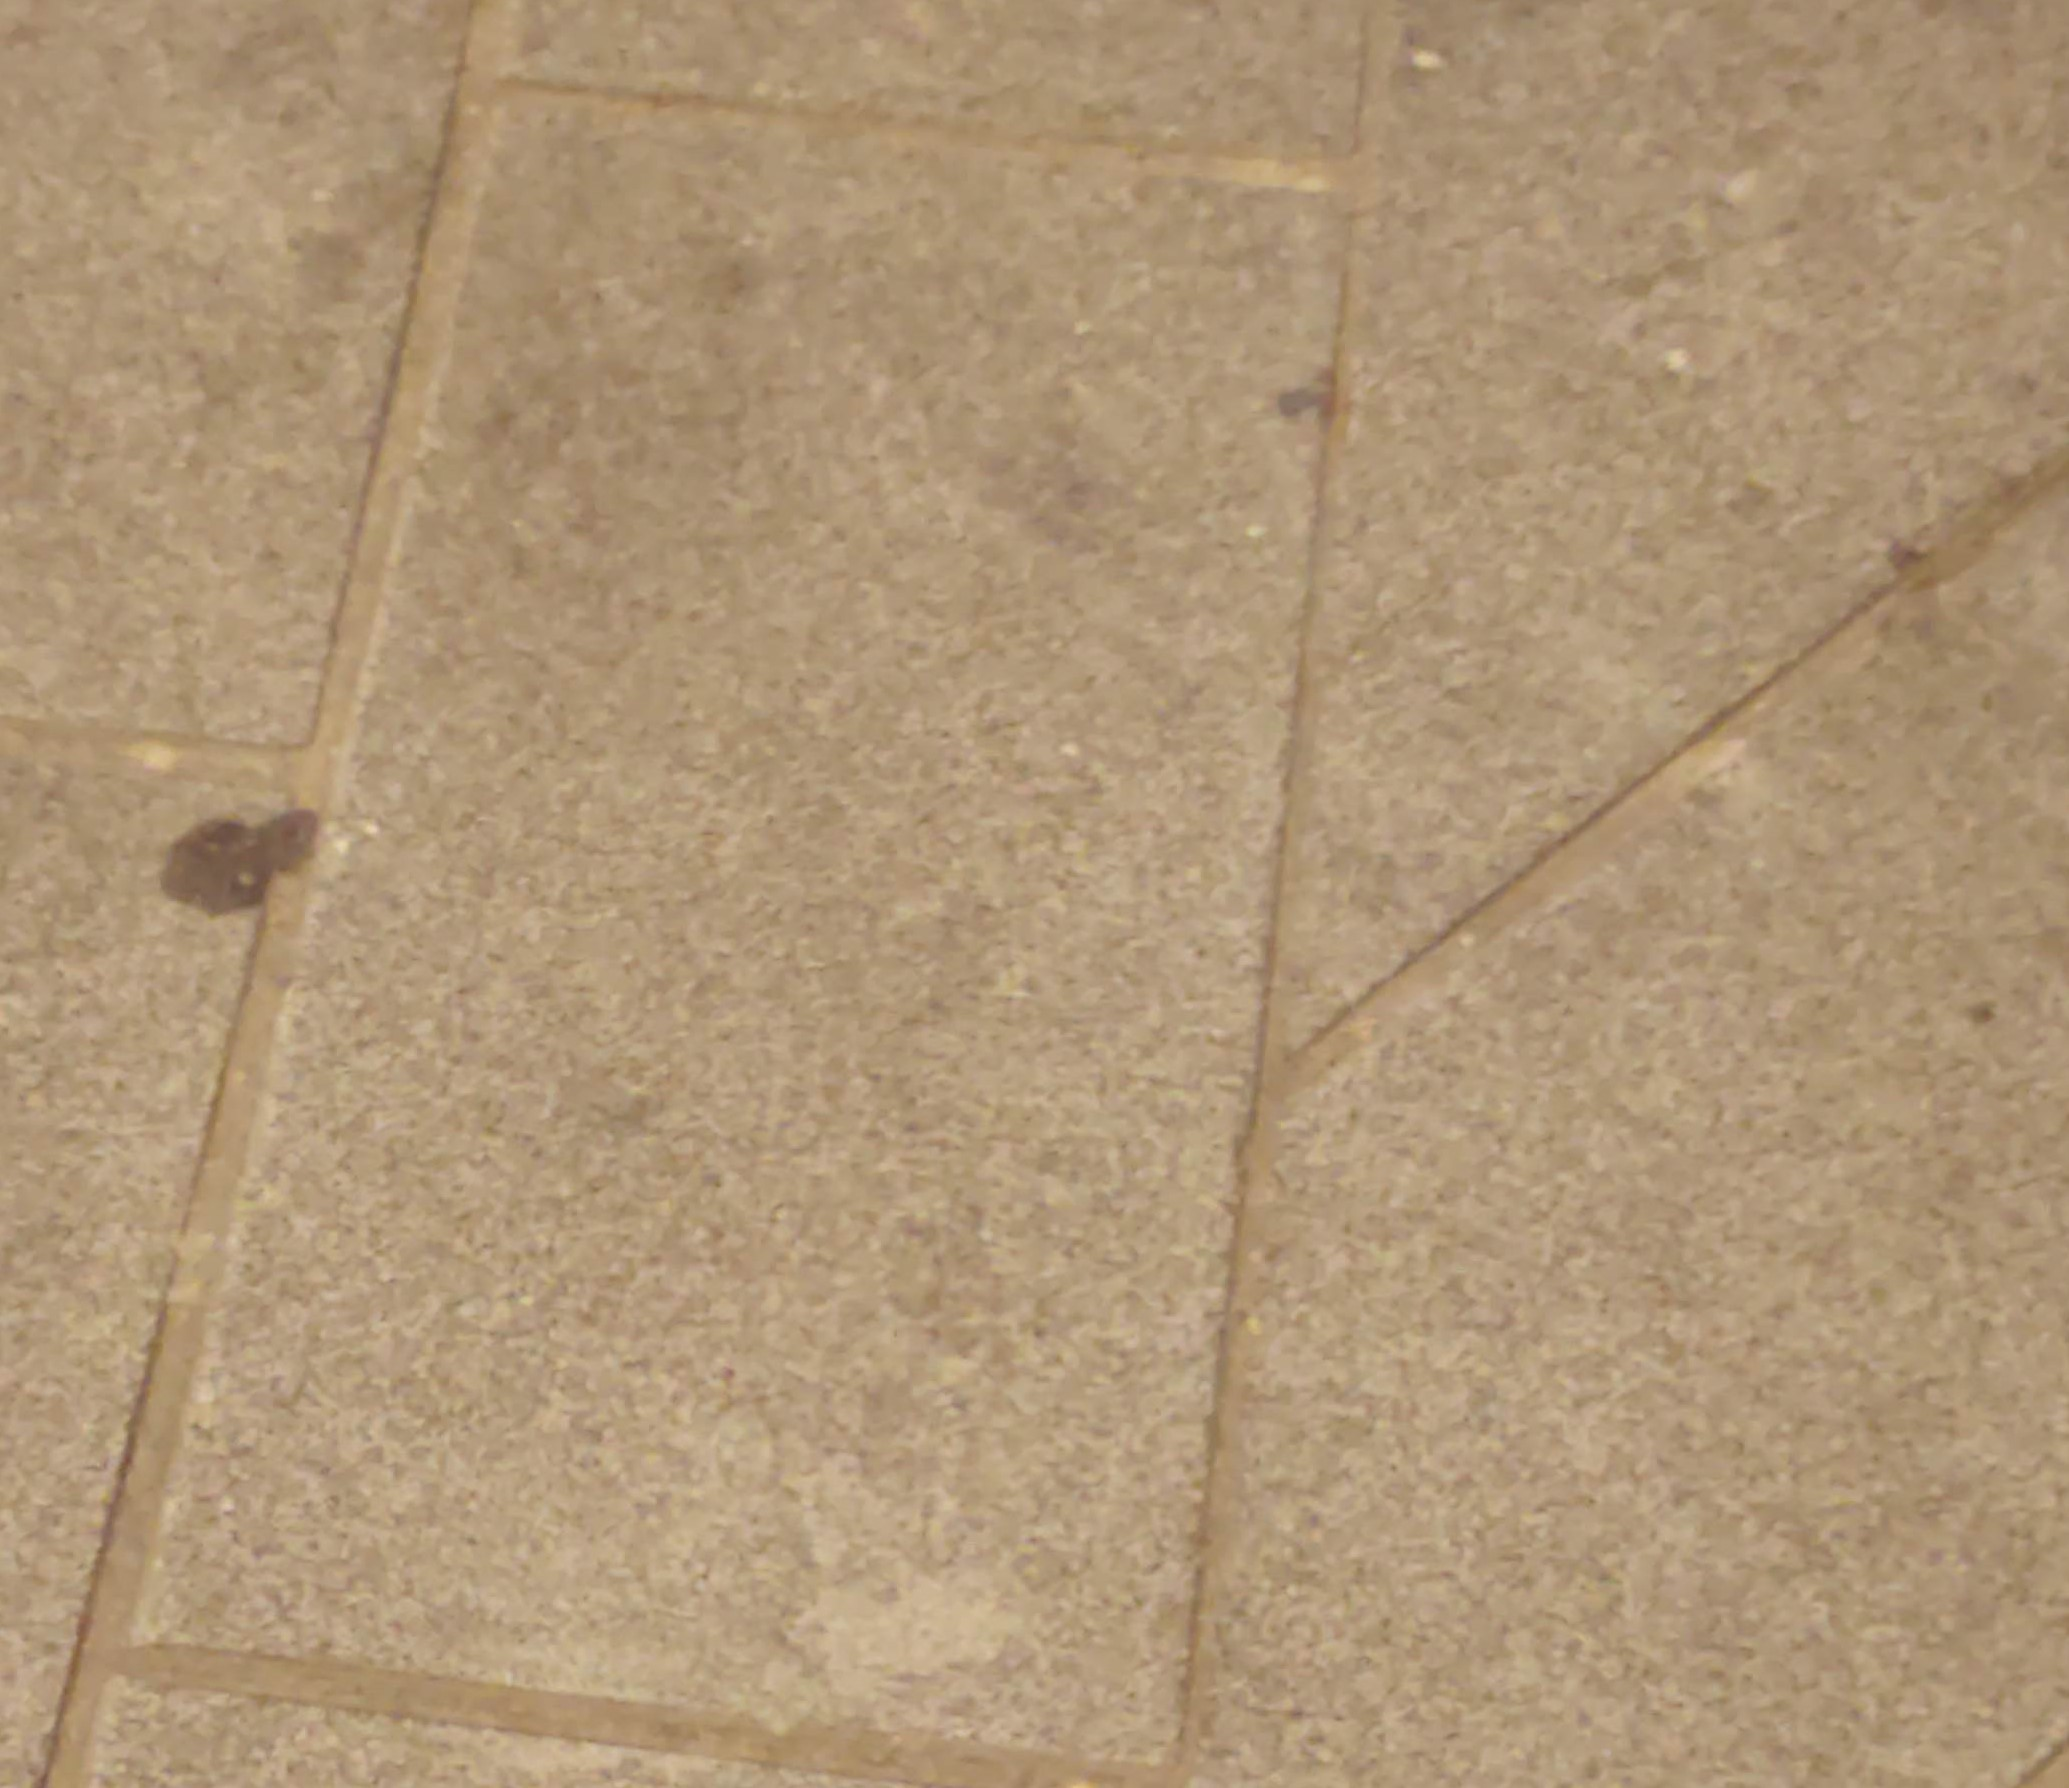grey spot: (158, 806, 317, 913)
